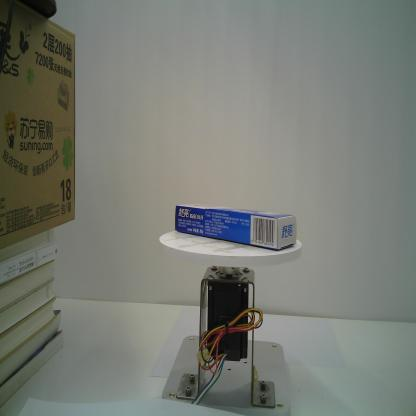Personal Hygiene: (172, 200, 297, 252)
